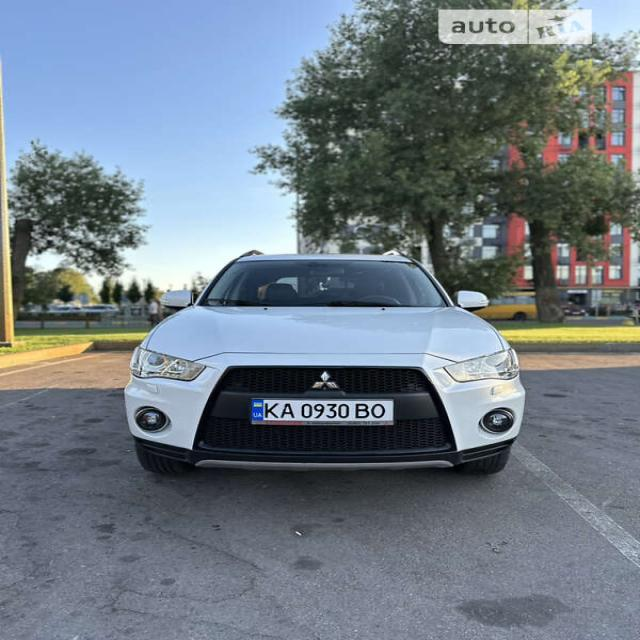plate: (252, 399, 400, 428)
